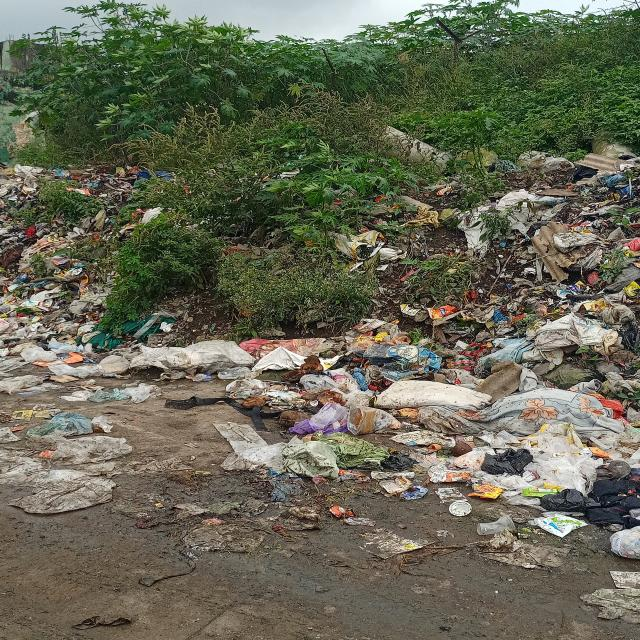garbage: (127, 328, 640, 497), (405, 156, 640, 323), (6, 163, 109, 392)
